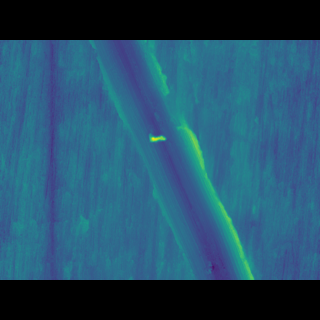Loch: (88, 70, 256, 250)
